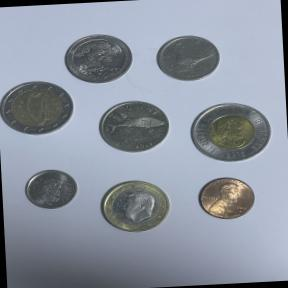1 Euro-B: (92, 172, 180, 240)
2 Euro-B: (0, 76, 76, 139)
Canada-10cent-B: (18, 163, 82, 215)
Canada-2Dollar-B: (180, 92, 278, 170)
Croatia-2Kune-B: (92, 93, 176, 161)
US-1cent-B: (190, 170, 262, 225)
US-25cent-B: (60, 30, 136, 88)
